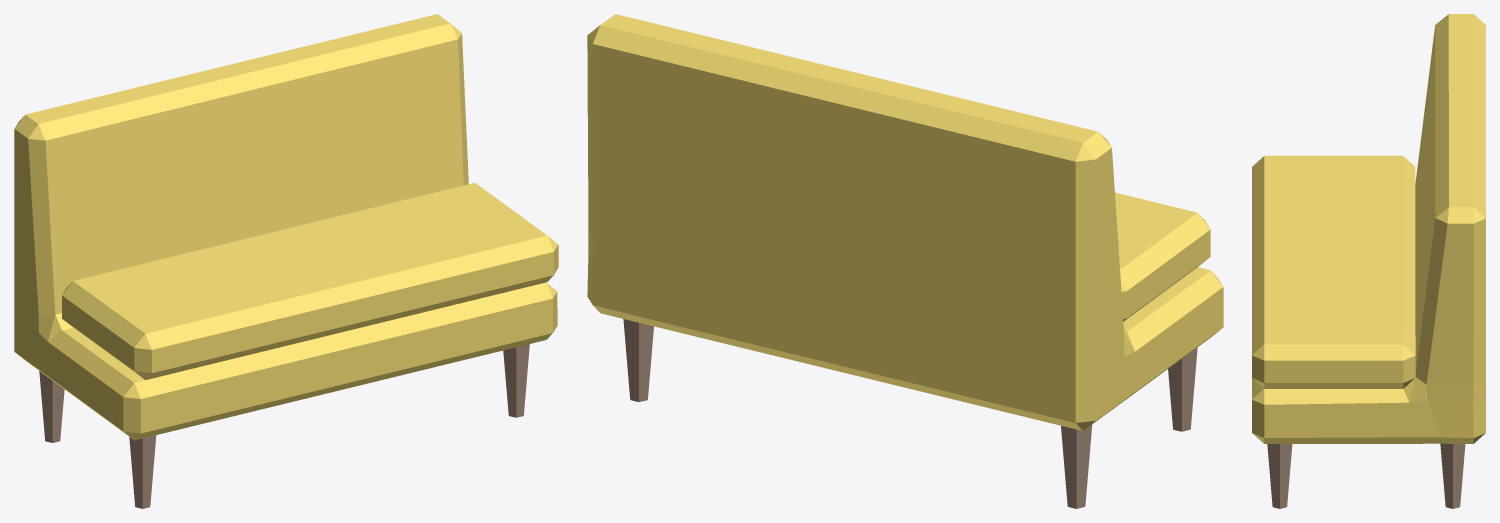
Rendered from Couch_2.fbx.
3 renders of one model, left to right at view 1: azimuth 30°, elevation 25°; view 2: azimuth 150°, elevation 25°; view 3: azimuth 270°, elevation 25°, orthographic. The views are drawn at different scales.
Visible parts, largest first — view 1: Couch_2; view 2: Couch_2; view 3: Couch_2.
Boxes of the visible parts, x1,y1,x2,y2 form: Couch_2: (14, 14, 558, 508); Couch_2: (587, 14, 1223, 508); Couch_2: (1252, 14, 1485, 508).
Size of the model in its own units: 161 by 77.75 by 113.
